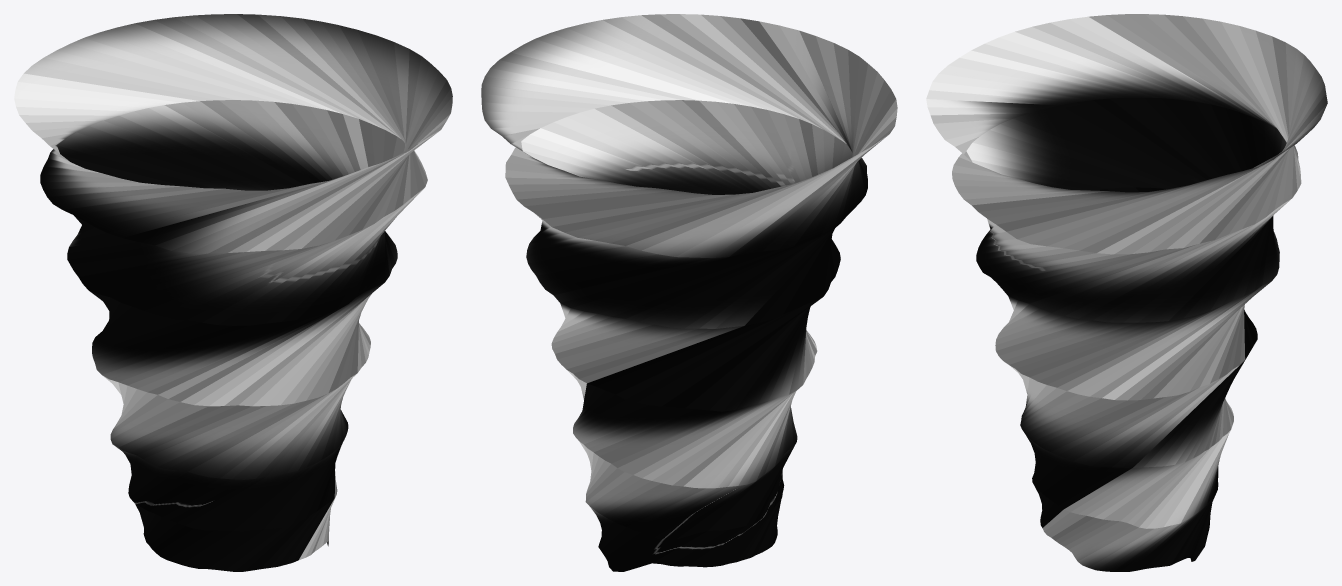
File: tornado 03 ok animated.fbx
3 renders of one model, left to right at view 1: azimuth 30°, elevation 25°; view 2: azimuth 150°, elevation 25°; view 3: azimuth 270°, elevation 25°, orthographic. The views are drawn at different scales.
Parts seen in each view (by area): view 1: Cylinder; view 2: Cylinder; view 3: Cylinder.
Part boxes in pixels (left/top/right/bottom): Cylinder: left=14, top=14, right=452, bottom=571; Cylinder: left=481, top=14, right=897, bottom=571; Cylinder: left=926, top=14, right=1327, bottom=571.
Size of the model in its own units: 101 by 119 by 97.6.
Materials: 1 (1 with a texture image).
